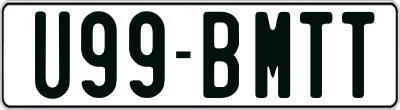9: (127, 8, 169, 95), (78, 9, 116, 98)
B: (203, 12, 242, 102)
M: (255, 11, 296, 103)
T: (341, 12, 377, 104), (300, 12, 334, 102)
U: (34, 11, 73, 99)
